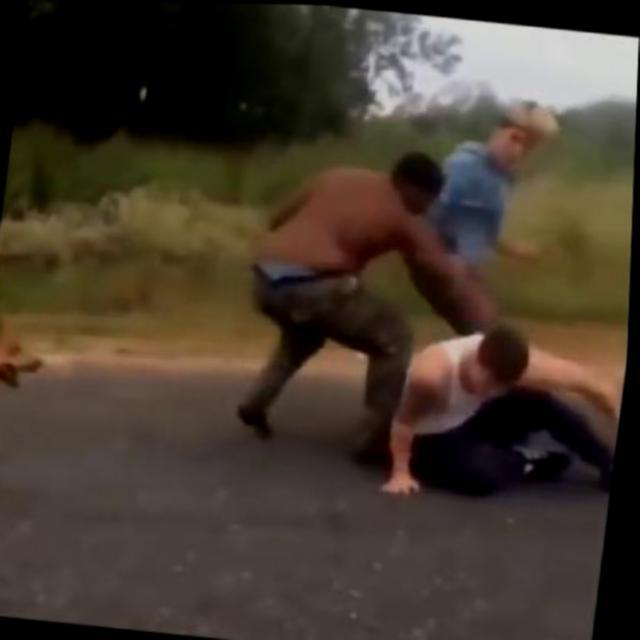fight: (231, 138, 636, 512)
